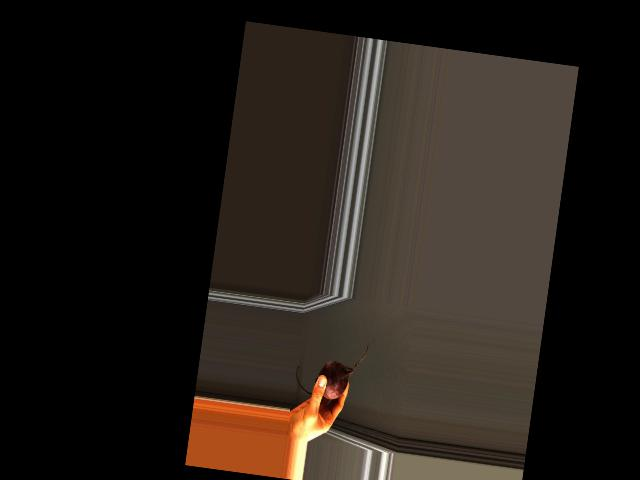beet: (292, 332, 368, 402)
